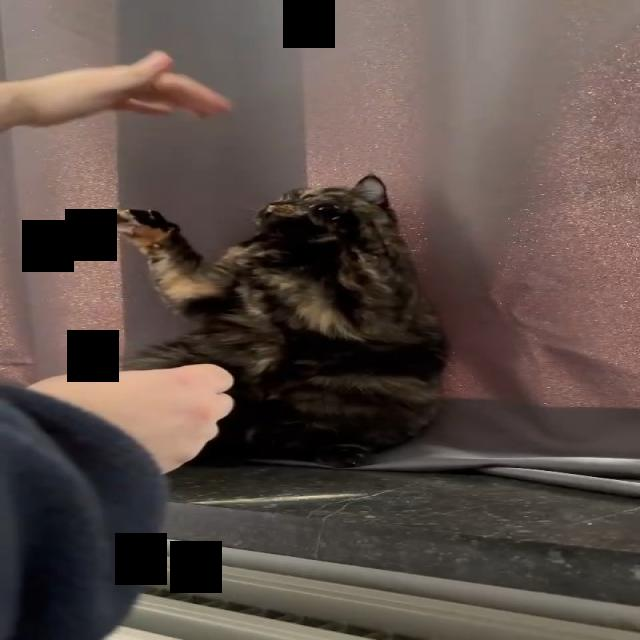authorized: (108, 173, 449, 468)
